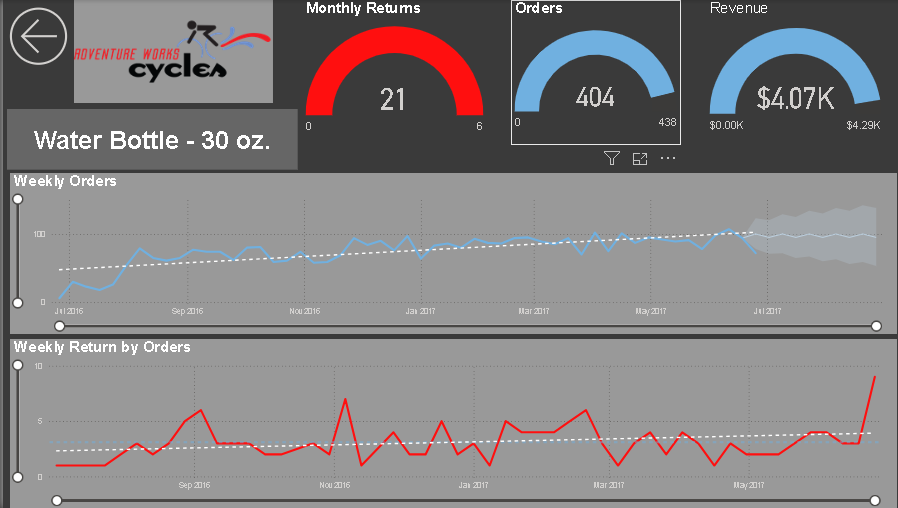

The page's visual inventory and layout, read from the dashboard file:
{"tool":"powerbi","page":{"name":"Product Details","canvas":[1280,720],"ordinal":13},"visuals":[{"type":"lineChart","title":"Weekly Orders","fields":{"Y":["Sales Data.Total Distinct Orders"],"Category":["Calendar_lookup.Start of Week"]},"box":[10,245,1256.7,228.3],"z":0},{"type":"lineChart","title":"Weekly Return by Orders","fields":{"Y":["Returns Data.Total Return"],"Category":["Calendar_lookup.Start of Week"]},"box":[10,480,1256.7,240],"z":1000},{"type":"gauge","title":"Revenue ","fields":{"Y":["Sales Data.Total Revenue"],"MaxValue":["Sales Data.Revenue Target"]},"box":[996.1,0,253.6,204.9],"z":2000},{"type":"gauge","title":"Orders","fields":{"MaxValue":["Sales Data.Order Target"],"Y":["Sales Data.Total Distinct Orders"]},"box":[720.6,0,240.2,204.9],"z":3000},{"type":"gauge","title":"Monthly Returns","fields":{"Y":["Returns Data.Qty Returned"],"MaxValue":["Sales Data.Prev Month Returns"]},"box":[423.4,0,262.1,204.5],"z":4000},{"type":"image","box":[10.1,0,372.9,119.3],"z":5000},{"type":"card","fields":{"Values":["Min(Products_lookup.ProductName)"]},"box":[0,145.4,411.8,86.4],"z":6000},{"type":"actionButton","box":[0,0,100,40],"z":7000}]}

Visuals, with their boxes in screenshot pixels (x1, y1, x2, y2), scaled from the page's 1280x720 canvas onto the 898x508 screenshot:
"Weekly Orders" lineChart: [x1=7, y1=173, x2=889, y2=334]
"Weekly Return by Orders" lineChart: [x1=7, y1=339, x2=889, y2=507]
"Revenue " gauge: [x1=699, y1=0, x2=877, y2=145]
"Orders" gauge: [x1=506, y1=0, x2=674, y2=145]
"Monthly Returns" gauge: [x1=297, y1=0, x2=481, y2=144]
image: [x1=7, y1=0, x2=269, y2=84]
card - Min(Products_lookup.ProductName): [x1=0, y1=103, x2=289, y2=164]
actionButton: [x1=0, y1=0, x2=70, y2=28]
